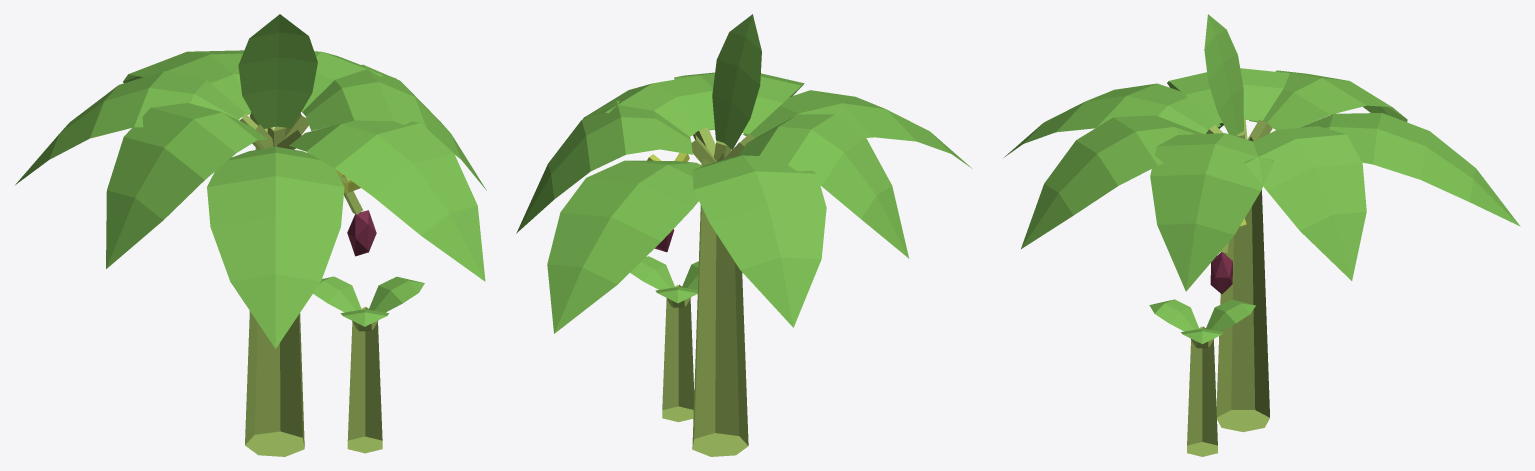
The model's file is viet_tree_banana.glb.
3 views of the same model, side by side, from view 1: azimuth 30°, elevation 25°; view 2: azimuth 150°, elevation 25°; view 3: azimuth 270°, elevation 25° (orthographic). The views are drawn at different scales.
Visible parts, largest first — view 1: viet_tree_banana; view 2: viet_tree_banana; view 3: viet_tree_banana.
Boxes of the visible parts, bbox=[...] form: viet_tree_banana: bbox=[15, 14, 486, 456]; viet_tree_banana: bbox=[516, 14, 972, 456]; viet_tree_banana: bbox=[1004, 14, 1520, 456].
Size of the model in its own units: 0.7253 by 0.8503 by 1.
